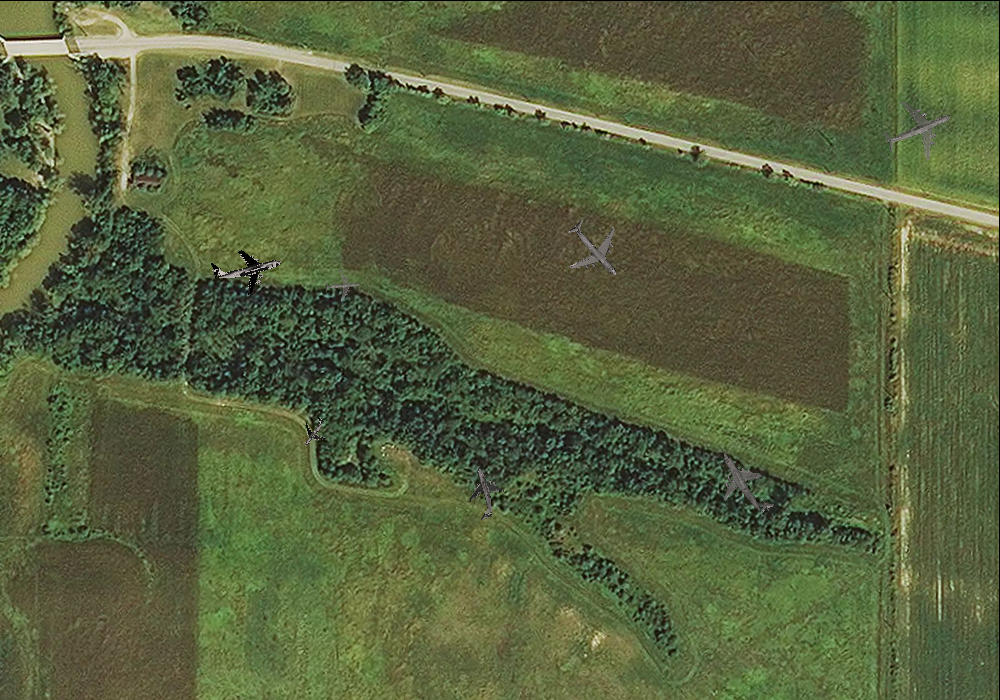plane: (549, 204, 640, 295), (872, 84, 963, 173), (702, 437, 790, 529), (204, 229, 287, 305), (454, 461, 512, 525), (292, 410, 334, 453), (323, 267, 361, 303)
